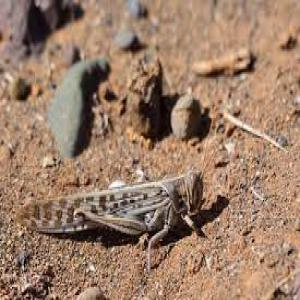locust: (28, 147, 227, 271)
